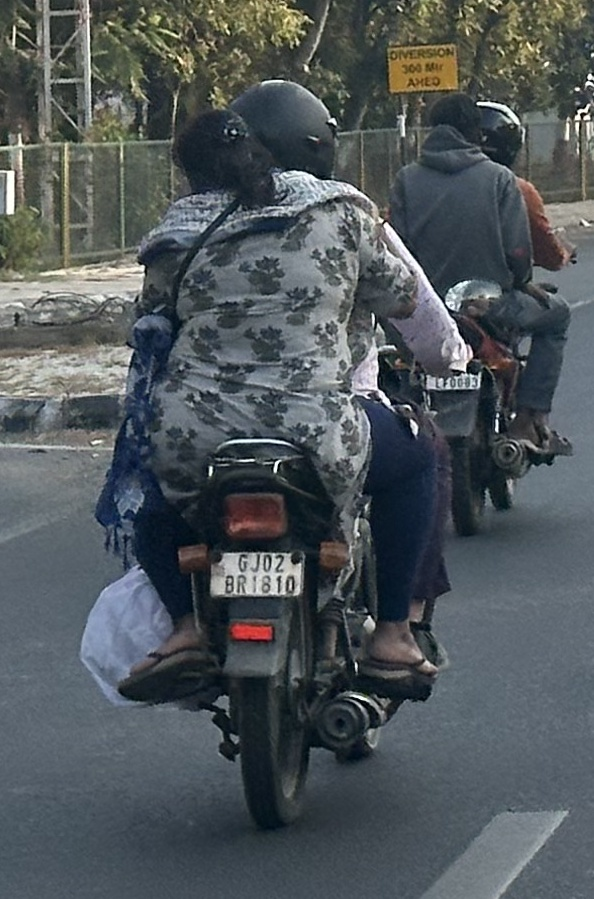BikeWithRider: (68, 69, 477, 844), (365, 83, 585, 544)
Helmet: (216, 71, 347, 191), (456, 93, 533, 175)
NoHelmet: (158, 101, 263, 203), (415, 86, 492, 154)
